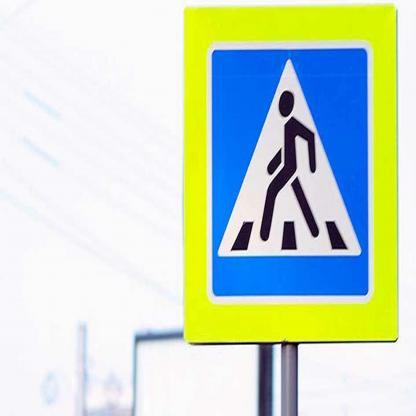road_sign: (184, 6, 396, 344)
